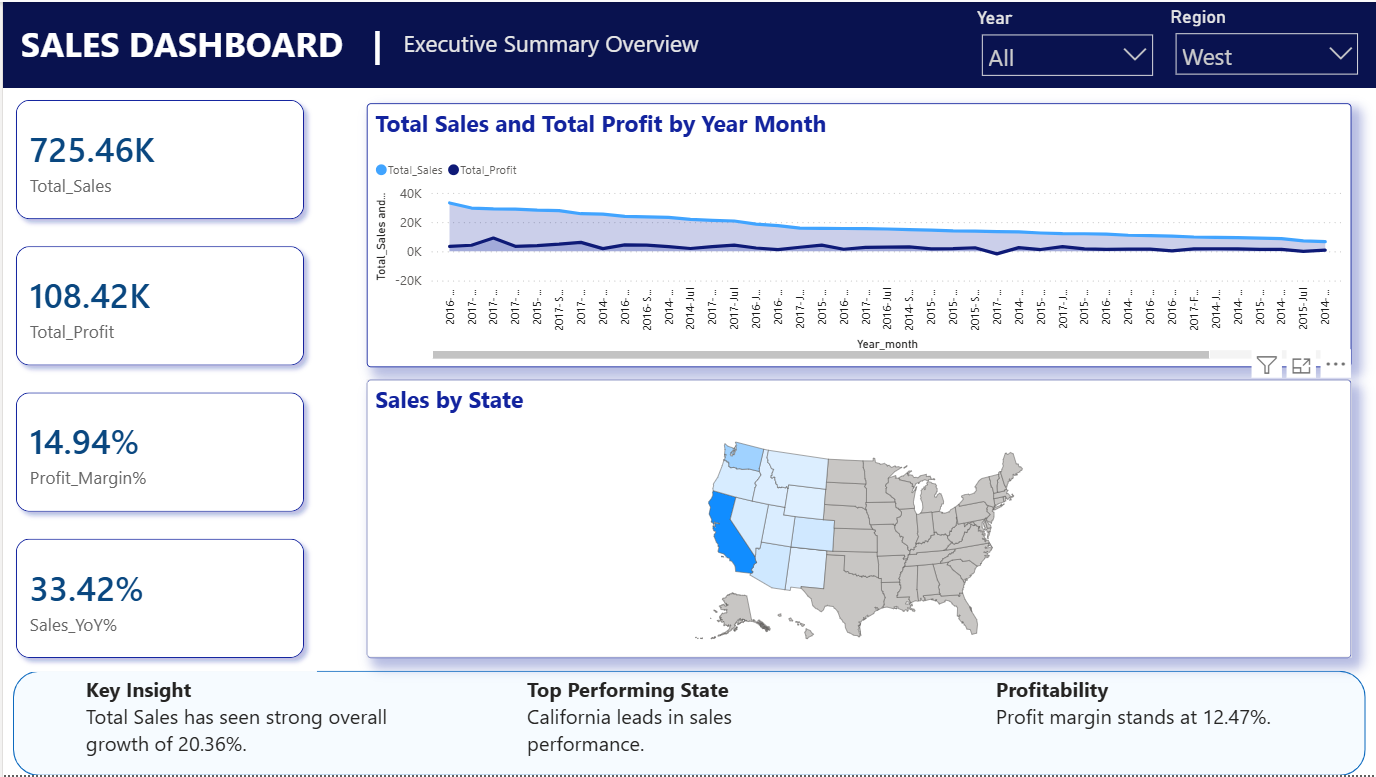

The dashboard page shown, as its layout file describes it:
{"tool":"powerbi","page":{"name":"Executive Summary","canvas":[1280,720],"ordinal":0},"visuals":[{"type":"cardVisual","title":"Total Sales","fields":{"Data":["Fact_Orders.Total_Sales"]},"box":[0,79.5,292.3,135.7],"z":0},{"type":"lineChart","title":"Total Sales and Total Profit by Year Month","fields":{"Y":["Fact_Orders.Total_Sales","Fact_Orders.Total_Profit"],"Category":["Dim_Date.Year_month"]},"box":[338.7,94.2,915.9,245.8],"z":1000},{"type":"shapeMap","title":"Sales by State","fields":{"Category":["Dim_Geography.state"]},"box":[338.7,351,915.9,259.2],"z":2000},{"type":"shape","box":[0,0,1279.5,80],"z":3000},{"type":"textbox","box":[11.2,11.2,375.4,55.9],"z":4000},{"type":"textbox","box":[368,19,348.7,43.6],"z":5000},{"type":"shape","box":[9.8,622.4,1258.3,97.8],"z":6000},{"type":"textbox","box":[72.1,622.4,314.3,97.8],"z":7000},{"type":"textbox","box":[483,622.4,313,97.8],"z":8000},{"type":"textbox","box":[918.3,622.4,313,97.8],"z":9000},{"type":"cardVisual","title":"Total Sales","fields":{"Data":["Fact_Orders.Total_Profit"]},"box":[0,215.2,292.3,135.7],"z":10000},{"type":"cardVisual","title":"Total Sales","fields":{"Data":["Fact_Orders.Profit_Margin%"]},"box":[0,351,292.3,135.7],"z":11000},{"type":"cardVisual","title":"Total Sales","fields":{"Data":["Fact_Orders.Sales_YoY%"]},"box":[0,486.9,292.3,135.7],"z":12000},{"type":"slicer","title":"Year","fields":{"Values":["Dim_Date.Year"]},"box":[906.1,4.9,168.8,67.3],"z":13000},{"type":"slicer","title":"Region","fields":{"Values":["Dim_Geography.region"]},"box":[1085.9,3.7,179.8,75.8],"z":14000}]}

Visuals, with their boxes in screenshot pixels (x1, y1, x2, y2), scaled from the page's 1280x720 canvas onto the 1376x777 screenshot:
"Total Sales" cardVisual: select_region(0, 86, 314, 232)
"Total Sales and Total Profit by Year Month" lineChart: select_region(364, 102, 1349, 367)
"Sales by State" shapeMap: select_region(364, 379, 1349, 659)
shape: select_region(0, 0, 1375, 86)
textbox: select_region(12, 12, 416, 72)
textbox: select_region(396, 21, 770, 68)
shape: select_region(11, 672, 1363, 776)
textbox: select_region(78, 672, 415, 776)
textbox: select_region(519, 672, 856, 776)
textbox: select_region(987, 672, 1324, 776)
"Total Sales" cardVisual: select_region(0, 232, 314, 379)
"Total Sales" cardVisual: select_region(0, 379, 314, 525)
"Total Sales" cardVisual: select_region(0, 525, 314, 672)
"Year" slicer: select_region(974, 5, 1156, 78)
"Region" slicer: select_region(1167, 4, 1361, 86)
